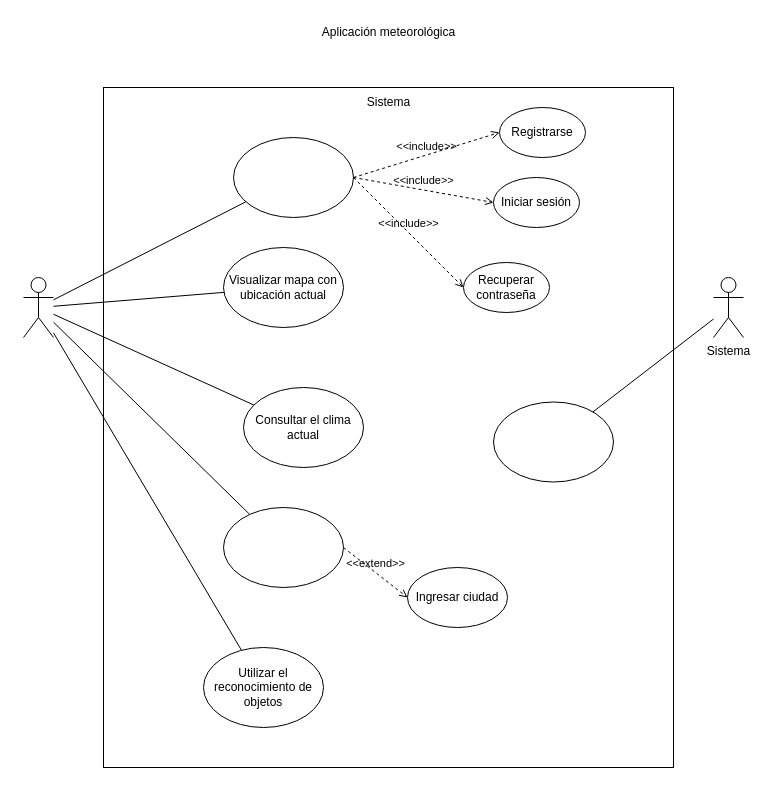
Some shapes in this 767 by 793 pixel diagram are drawn without their labels. Here are the shapes that lost their labels. From the top down, the centre of each, then its label:
At point (293, 177): "Autenticarse".
At point (38, 307): "Jugador".
At point (553, 441): "Actualizar datos meteorológicos".
At point (283, 547): "Visualizar historial climático".
